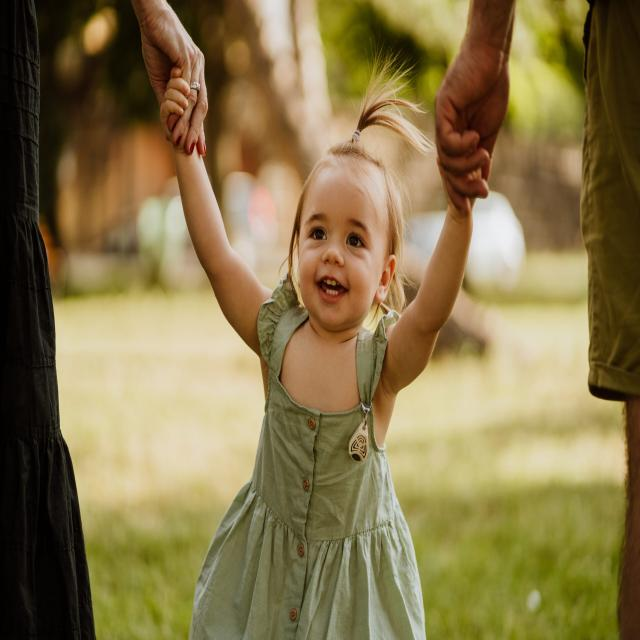adult: (0, 0, 209, 640), (436, 0, 640, 640)
child: (158, 69, 481, 640)
